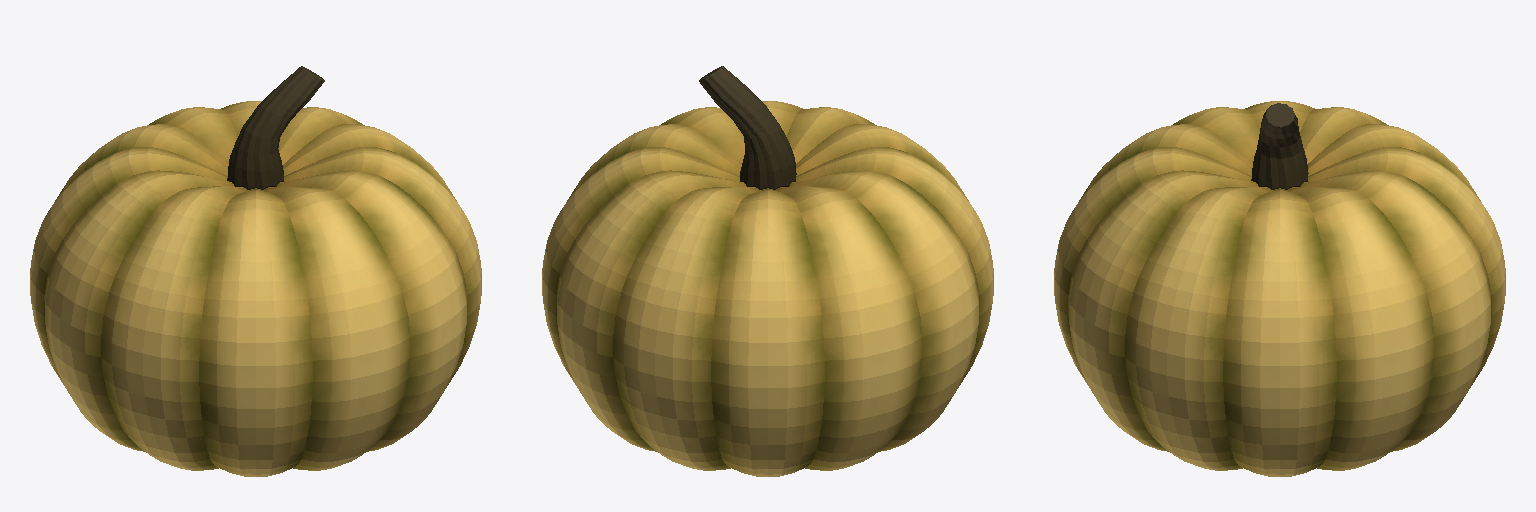
The picture shows the model from 3 angles: view 1: azimuth 30°, elevation 25°; view 2: azimuth 150°, elevation 25°; view 3: azimuth 270°, elevation 25°; orthographic projection.
Parts seen in each view (by area): view 1: pumpkin_small_003; view 2: pumpkin_small_003; view 3: pumpkin_small_003.
Part boxes in pixels (left/top/right/bottom): pumpkin_small_003: left=30, top=66, right=481, bottom=476; pumpkin_small_003: left=542, top=66, right=993, bottom=476; pumpkin_small_003: left=1054, top=101, right=1505, bottom=476.
Size of the model in its own units: 3.96 by 3.41 by 3.96.
1 materials, 1 textured.